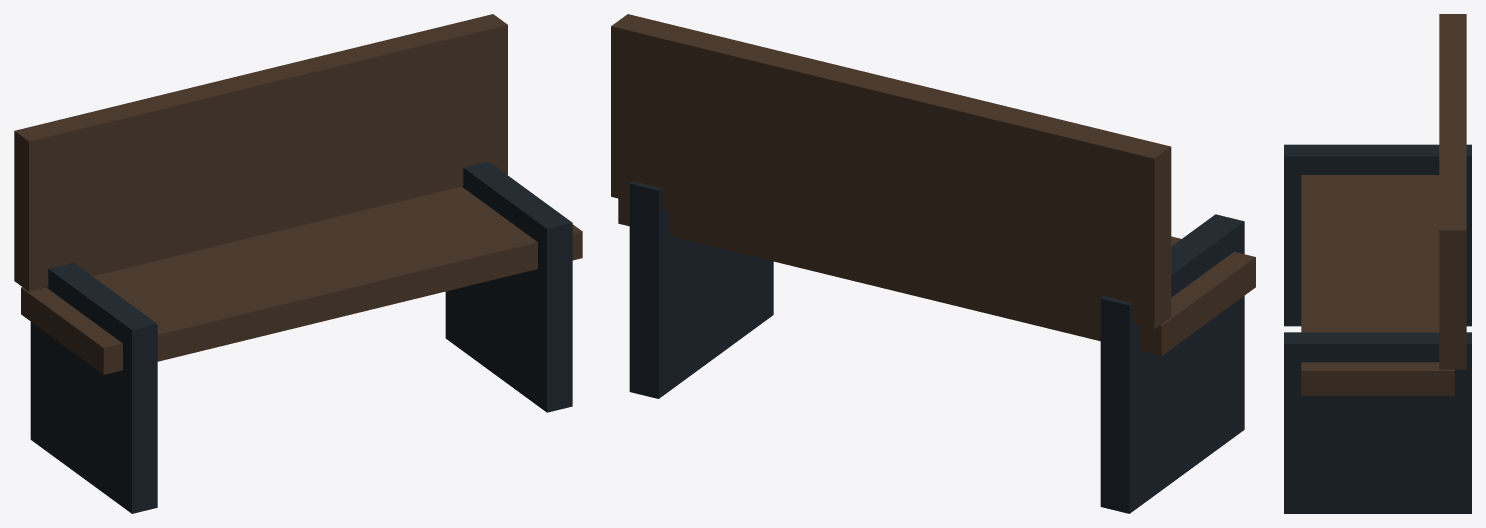
File: bench.glb
The picture shows the model from 3 angles, left to right: view 1: azimuth 30°, elevation 25°; view 2: azimuth 150°, elevation 25°; view 3: azimuth 270°, elevation 25°; orthographic projection. The views are drawn at different scales.
Bounding box in the file's own units: 1.5 × 0.945 × 0.55.
